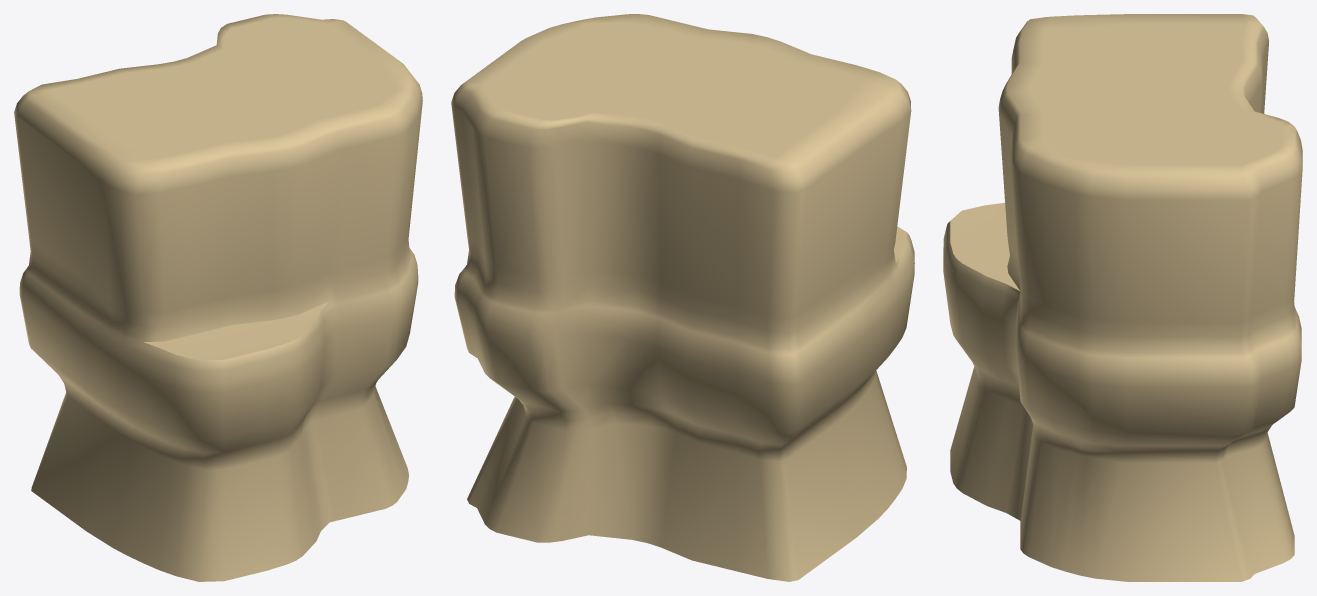
Rendered from Rock03_MESH.FBX.
3 views of the same model, side by side, from view 1: azimuth 30°, elevation 25°; view 2: azimuth 150°, elevation 25°; view 3: azimuth 270°, elevation 25° (orthographic). The views are drawn at different scales.
Parts seen in each view (by area): view 1: Rock03_low; view 2: Rock03_low; view 3: Rock03_low.
Boxes of the visible parts, box(x1,y1,x2,y2) form: Rock03_low: box(14, 14, 422, 581); Rock03_low: box(451, 14, 914, 581); Rock03_low: box(943, 14, 1302, 581).
Bounding box in the file's own units: 460 × 515 × 409.
